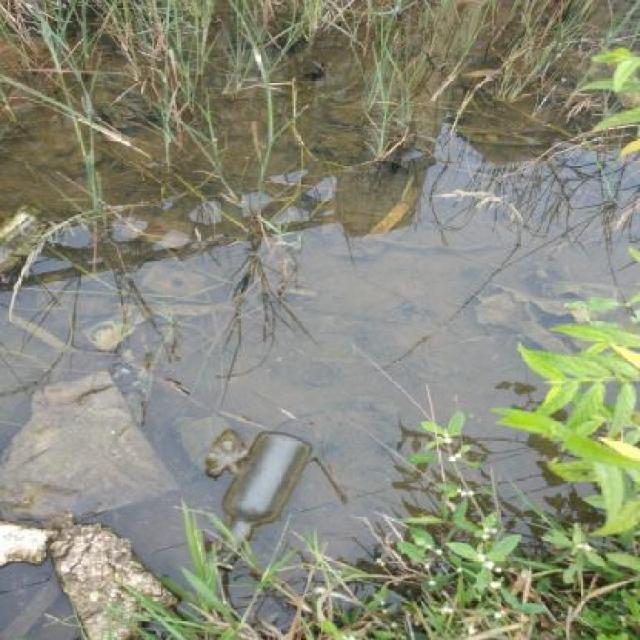garbage: (193, 411, 333, 585)
